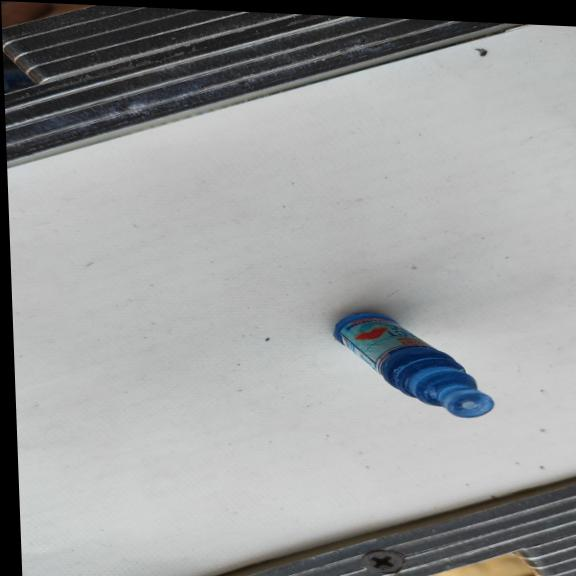Plastik: (326, 307, 495, 418)
